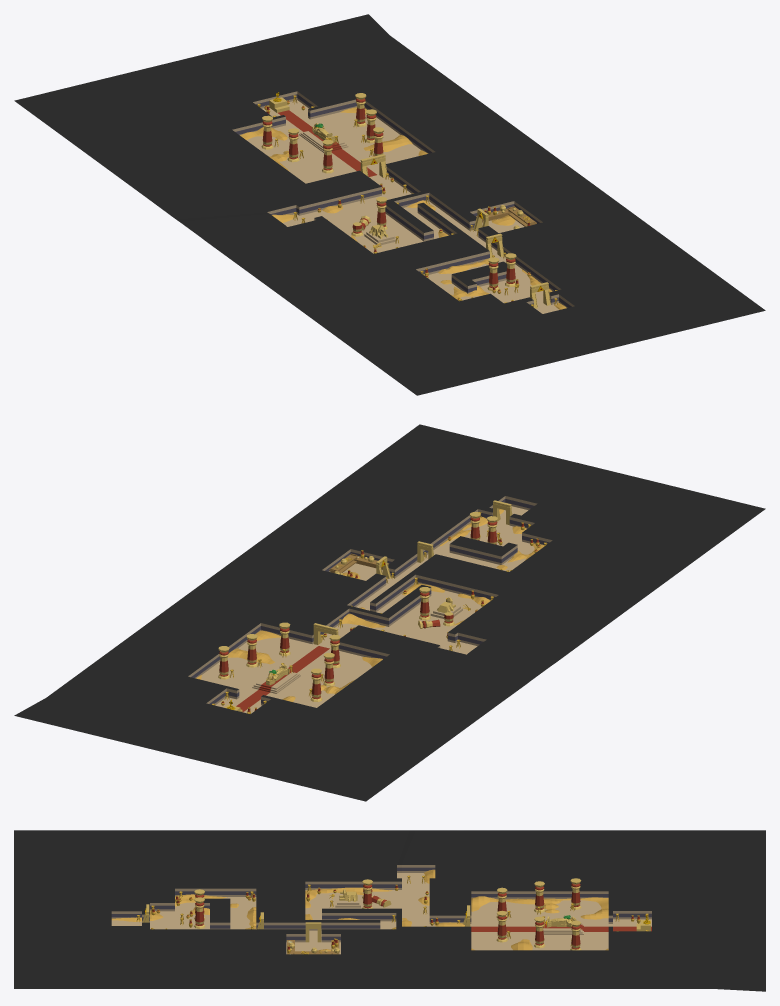
Rendered from Environment_Test7.fbx.
The picture shows the model from 3 angles, top to bottom: view 1: azimuth 30°, elevation 25°; view 2: azimuth 150°, elevation 25°; view 3: azimuth 270°, elevation 25°; orthographic projection. The views are drawn at different scales.
Visible parts, largest first — view 1: Roof, Floor, Wall, Sand; view 2: Roof, Floor, Wall, Sand; view 3: Roof, Floor, Wall, Sand, Pillar2.
Part boxes in pixels (<box>): Roof: <box>14,14,765,395</box>; Floor: <box>246,100,558,313</box>; Wall: <box>232,91,574,307</box>; Sand: <box>240,107,566,309</box>; Roof: <box>14,424,765,801</box>; Floor: <box>201,506,534,713</box>; Wall: <box>188,496,552,705</box>; Sand: <box>196,508,544,701</box>; Roof: <box>14,830,765,991</box>; Floor: <box>111,873,651,954</box>; Wall: <box>111,865,651,942</box>; Sand: <box>111,869,608,951</box>; Pillar2: <box>194,897,205,928</box>.
Bounding box in the file's own units: 1605 × 144 × 3159.
